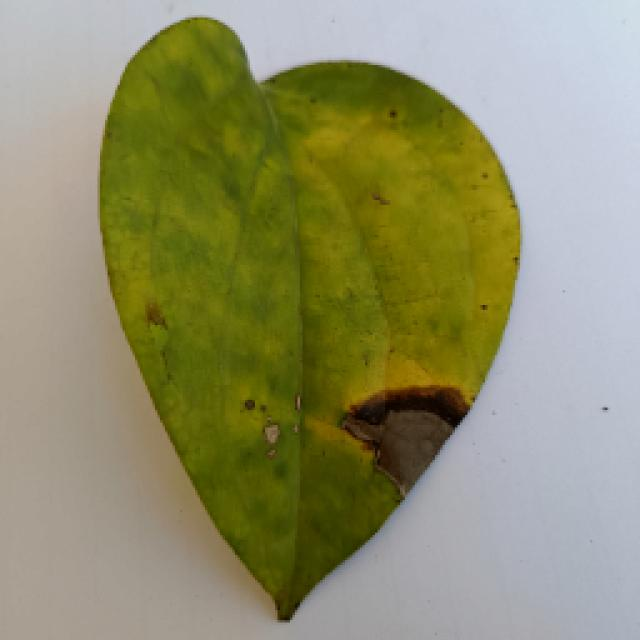slow-decline: (42, 30, 552, 625)
